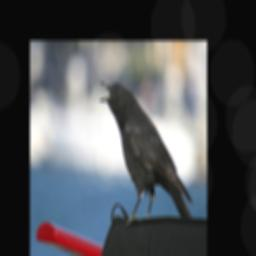Crow: (97, 78, 194, 229)
